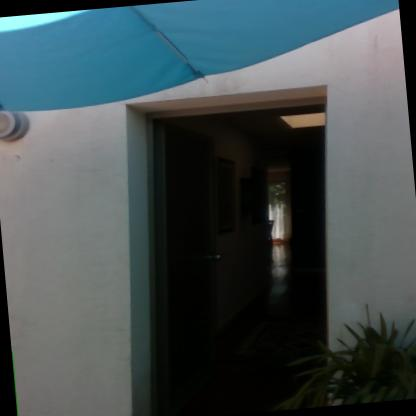open: (95, 74, 367, 415)
